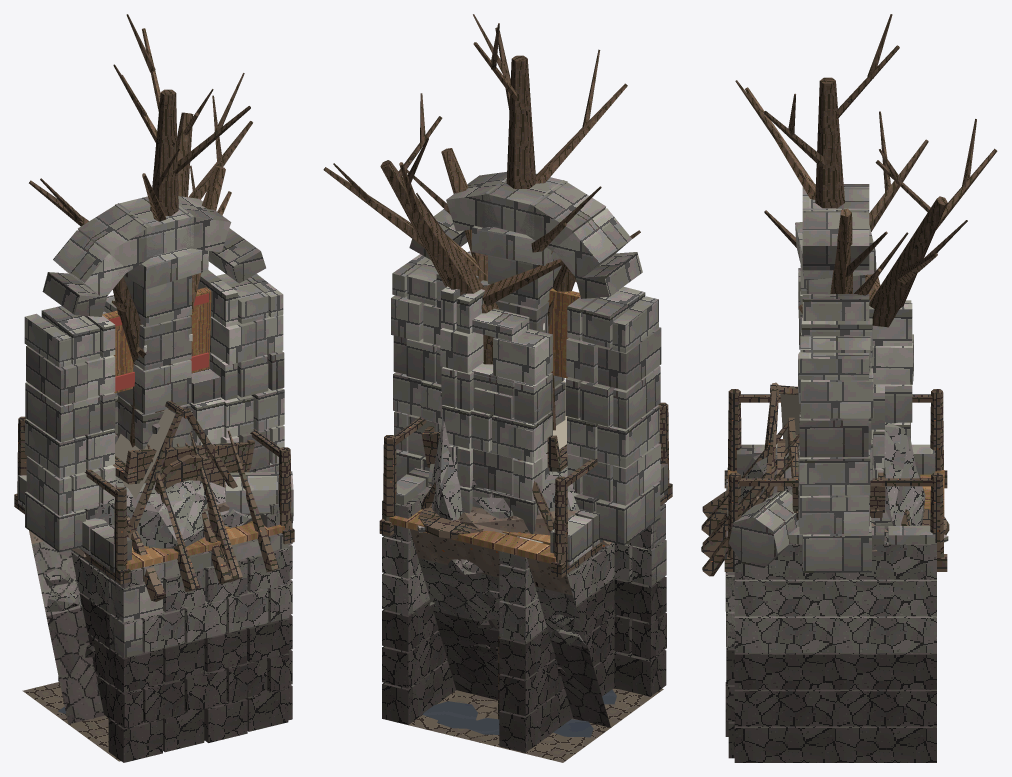
File: scarlands_kit.glb
3 views of the same model, side by side, from view 1: azimuth 30°, elevation 25°; view 2: azimuth 150°, elevation 25°; view 3: azimuth 270°, elevation 25° (orthographic). The views are drawn at different scales.
Parts seen in each view (by area): view 1: scar_ruin_arch_mesh, scar_ditch_corner_mesh, scar_ditch_crossing_planks_mesh, scar_ruin_pillar_mesh, scar_ditch_straight_mesh, scar_ditch_end_mesh, scar_dead_tree_tall_mesh, scar_rock_outcrop_mesh, scar_cart_broken_mesh, scar_camp_tent_ruin_mesh, scar_wild_warning_sign_mesh, scar_dead_tree_bent_mesh (+4 smaller); view 2: scar_ruin_arch_mesh, scar_ditch_corner_mesh, scar_ditch_end_mesh, scar_ditch_crossing_planks_mesh, scar_ruin_wall_end_mesh, scar_ruin_wall_mesh, scar_dead_tree_bent_mesh, scar_dead_tree_tall_mesh, scar_ditch_straight_mesh, scar_ruin_pillar_mesh, scar_rock_outcrop_mesh, scar_ruin_wall_corner_mesh (+7 smaller); view 3: scar_ditch_corner_mesh, scar_ruin_arch_mesh, scar_dead_tree_tall_mesh, scar_ditch_crossing_planks_mesh, scar_dead_tree_bent_mesh, scar_ruin_wall_end_mesh, scar_rubble_large_mesh, scar_rock_outcrop_mesh, scar_ditch_crossing_stone_mesh, scar_camp_tent_ruin_mesh, scar_dead_tree_split_mesh, scar_ditch_straight_mesh (+3 smaller).
Boxes of the visible parts, left/top/right/bottom form: scar_ruin_arch_mesh: left=24, top=196, right=284, bottom=552; scar_ditch_corner_mesh: left=22, top=430, right=292, bottom=761; scar_ditch_crossing_planks_mesh: left=14, top=416, right=294, bottom=762; scar_ruin_pillar_mesh: left=117, top=248, right=208, bottom=449; scar_ditch_straight_mesh: left=147, top=432, right=247, bottom=742; scar_ditch_end_mesh: left=58, top=442, right=247, bottom=751; scar_dead_tree_tall_mesh: left=29, top=14, right=250, bottom=447; scar_rock_outcrop_mesh: left=77, top=476, right=252, bottom=548; scar_cart_broken_mesh: left=113, top=434, right=254, bottom=493; scar_camp_tent_ruin_mesh: left=115, top=400, right=237, bottom=538; scar_wild_warning_sign_mesh: left=102, top=287, right=211, bottom=393; scar_dead_tree_bent_mesh: left=113, top=64, right=252, bottom=199; scar_ruin_arch_mesh: left=391, top=172, right=661, bottom=545; scar_ditch_corner_mesh: left=382, top=485, right=666, bottom=762; scar_ditch_end_mesh: left=466, top=542, right=616, bottom=752; scar_ditch_crossing_planks_mesh: left=379, top=402, right=672, bottom=737; scar_ruin_wall_end_mesh: left=440, top=275, right=552, bottom=513; scar_ruin_wall_mesh: left=454, top=308, right=552, bottom=530; scar_dead_tree_bent_mesh: left=323, top=93, right=564, bottom=364; scar_dead_tree_tall_mesh: left=416, top=14, right=627, bottom=281; scar_ditch_straight_mesh: left=433, top=535, right=519, bottom=752; scar_ruin_pillar_mesh: left=471, top=225, right=565, bottom=425; scar_rock_outcrop_mesh: left=431, top=420, right=582, bottom=520; scar_ruin_wall_corner_mesh: left=440, top=364, right=552, bottom=531; scar_ditch_corner_mesh: left=702, top=446, right=936, bottom=762; scar_ruin_arch_mesh: left=798, top=184, right=873, bottom=572; scar_dead_tree_tall_mesh: left=735, top=14, right=928, bottom=295; scar_ditch_crossing_planks_mesh: left=724, top=389, right=947, bottom=757; scar_dead_tree_bent_mesh: left=865, top=119, right=997, bottom=327; scar_ruin_wall_end_mesh: left=869, top=300, right=913, bottom=454; scar_rubble_large_mesh: left=728, top=490, right=924, bottom=568; scar_rock_outcrop_mesh: left=741, top=422, right=925, bottom=530; scar_ditch_crossing_stone_mesh: left=737, top=444, right=948, bottom=544; scar_camp_tent_ruin_mesh: left=764, top=382, right=910, bottom=525; scar_dead_tree_split_mesh: left=764, top=208, right=887, bottom=293; scar_ditch_straight_mesh: left=701, top=422, right=799, bottom=736.
Size of the model in its own units: 3.09 by 7.68 by 2.93.
Materials: 20 (15 with a texture image).
